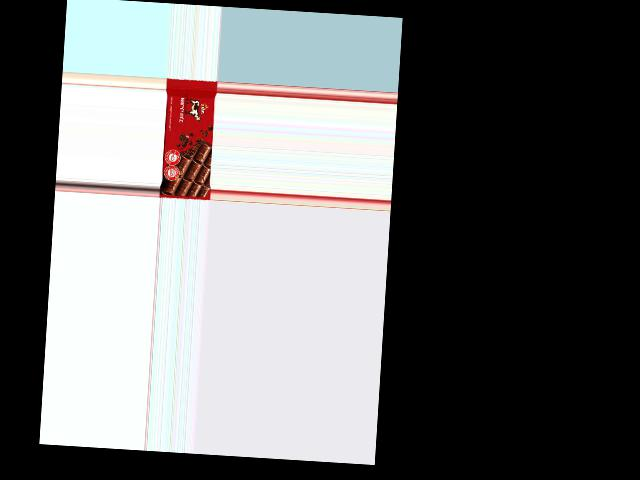chocolate: (159, 77, 216, 199)
